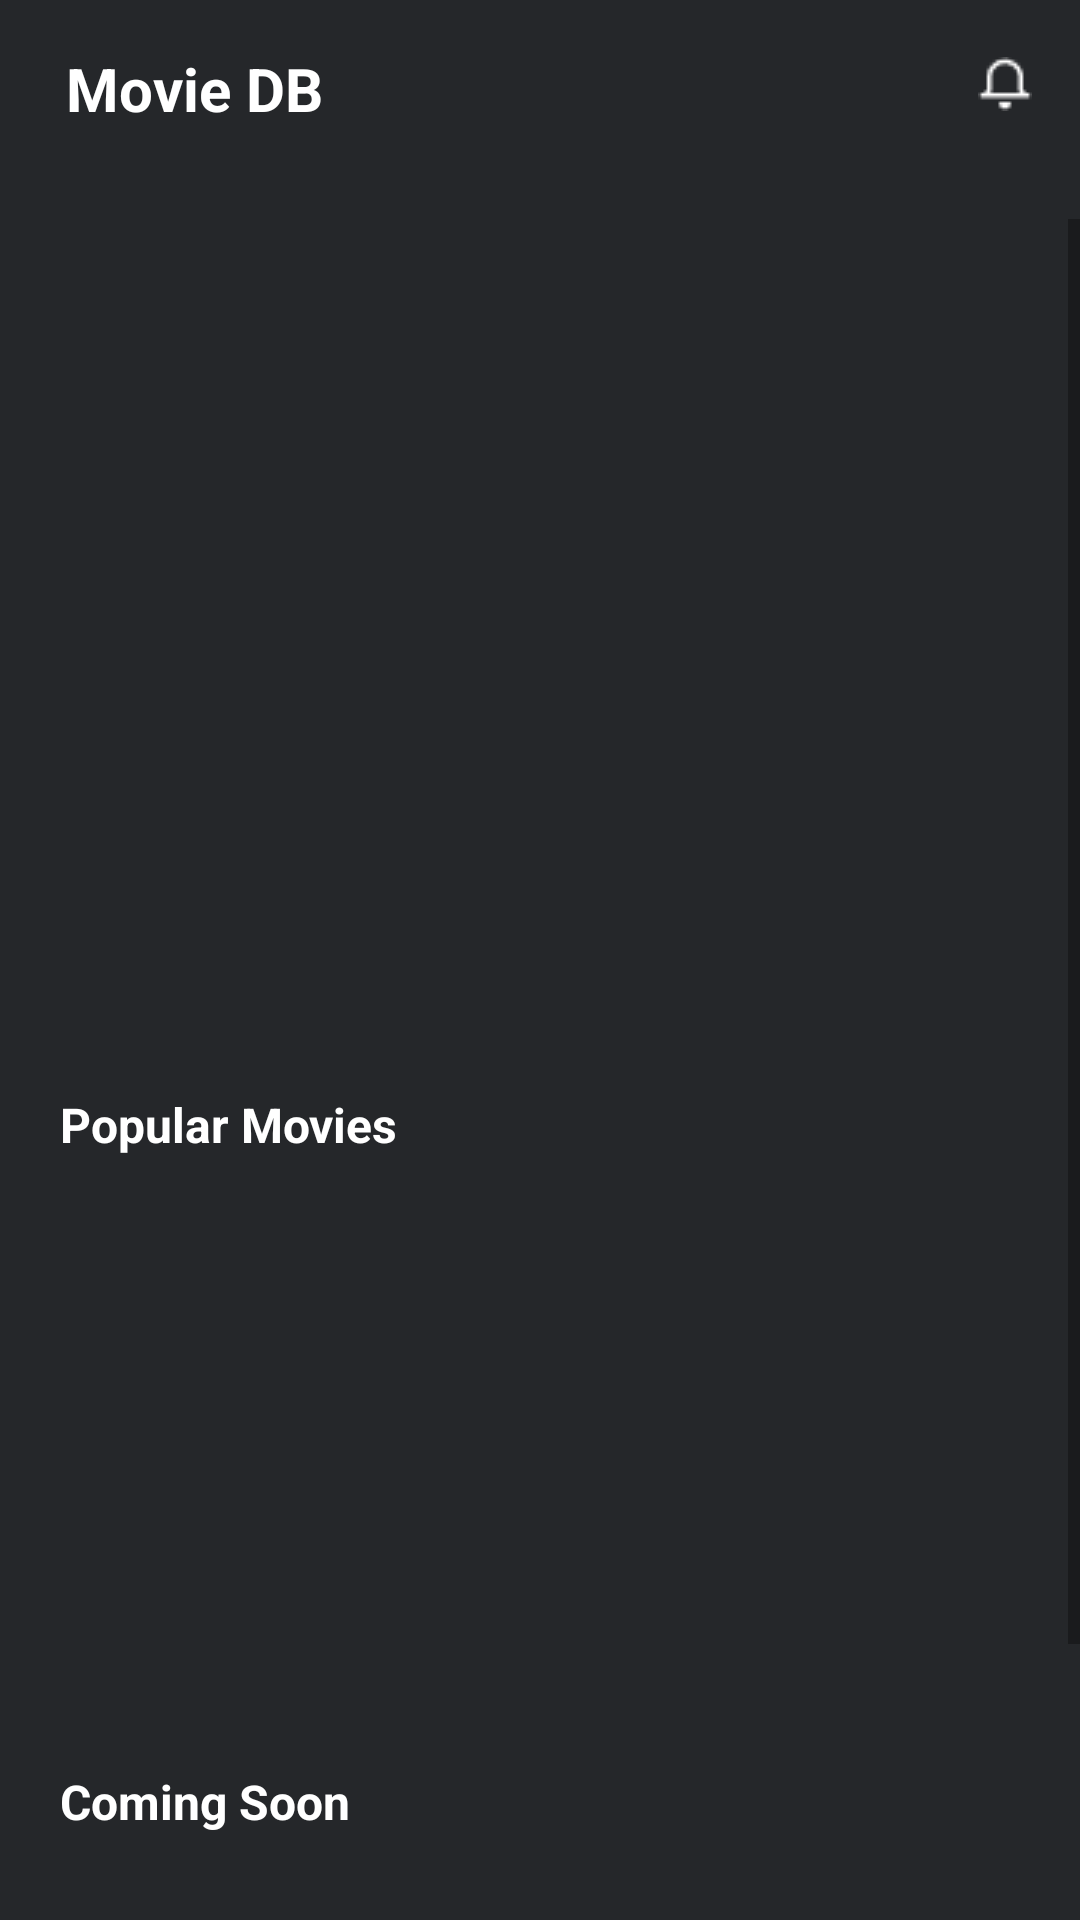

Screen size 1080*1920. Icon name, then its center in pixels as (x=x, y=y):
bell: (x=1005, y=84)
